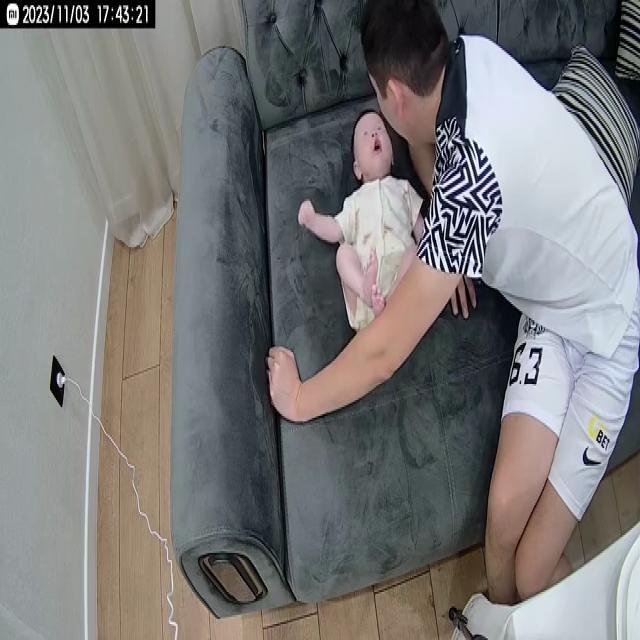baby: (294, 106, 432, 338)
